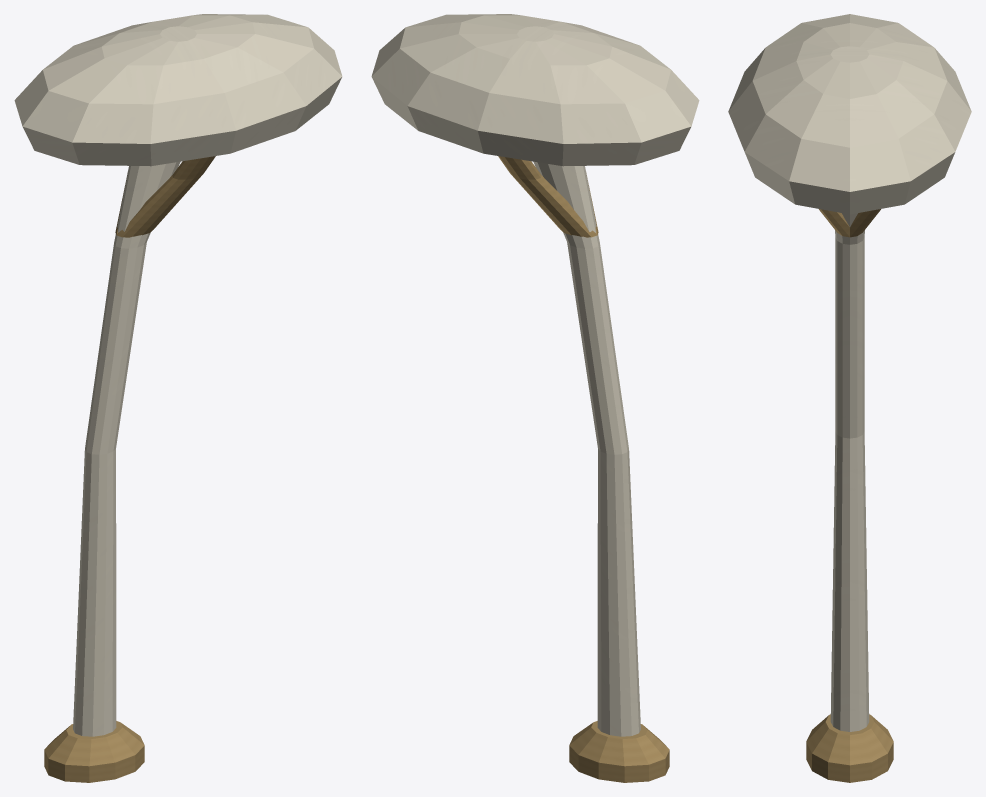
Rendered from AST-GAR-002.glb.
3 views of the same model, side by side, from view 1: azimuth 30°, elevation 25°; view 2: azimuth 150°, elevation 25°; view 3: azimuth 270°, elevation 25° (orthographic). The views are drawn at different scales.
Visible parts, largest first — view 1: LANT_ProfiledPetalHood, LANT_SweptStem, LANT_Foot, LANT_Fork_-1; view 2: LANT_ProfiledPetalHood, LANT_SweptStem, LANT_Foot, LANT_Fork_1; view 3: LANT_ProfiledPetalHood, LANT_SweptStem, LANT_Foot, LANT_Fork_1, LANT_Fork_-1.
Part boxes in pixels (x1,y1,x2,y2): LANT_ProfiledPetalHood: (14, 14, 342, 166); LANT_SweptStem: (73, 161, 180, 736); LANT_Foot: (44, 721, 144, 782); LANT_Fork_-1: (116, 156, 215, 237); LANT_ProfiledPetalHood: (371, 14, 699, 166); LANT_SweptStem: (533, 161, 640, 736); LANT_Foot: (569, 721, 669, 782); LANT_Fork_1: (498, 156, 597, 237); LANT_ProfiledPetalHood: (728, 14, 971, 214); LANT_SweptStem: (830, 213, 869, 731); LANT_Foot: (806, 714, 893, 782); LANT_Fork_1: (850, 209, 880, 237); LANT_Fork_-1: (819, 209, 849, 237).
Size of the model in its own units: 1.56 by 3.39 by 1.
Materials: 3 (2 with a texture image).
